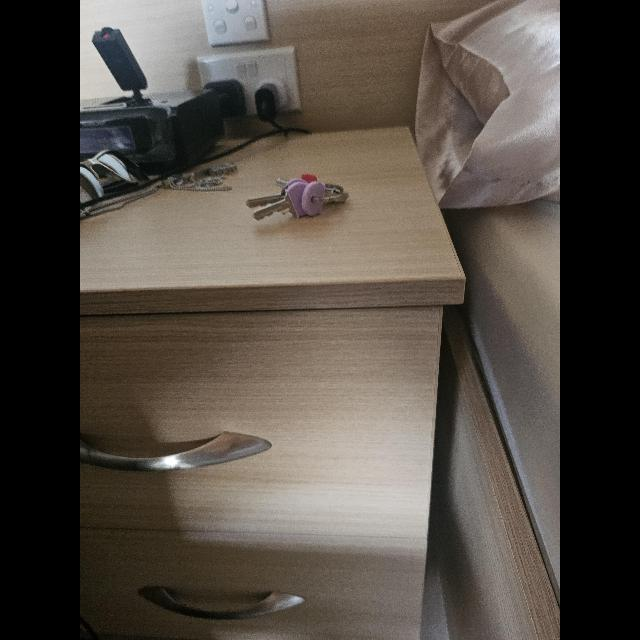Keys: (248, 173, 350, 220)
